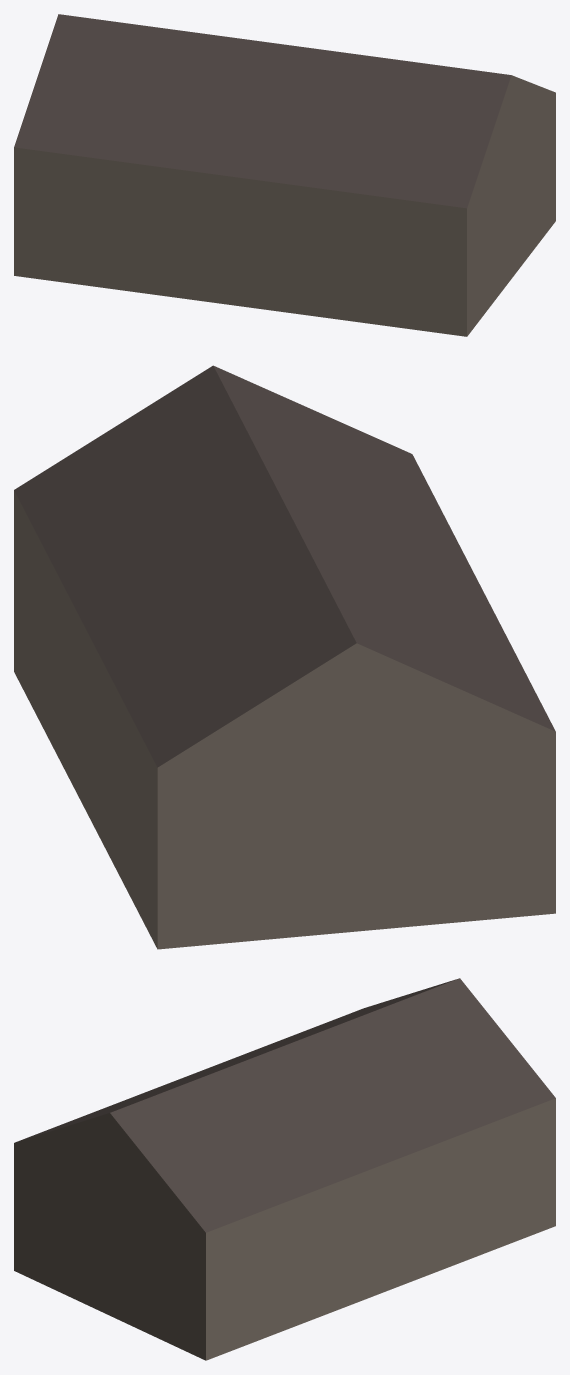
3 renders of one model, top to bottom at view 1: azimuth 30°, elevation 25°; view 2: azimuth 150°, elevation 25°; view 3: azimuth 270°, elevation 25°, orthographic. The views are drawn at different scales.
Parts seen in each view (by area): view 1: HP-w859457310; view 2: HP-w859457310; view 3: HP-w859457310.
Part boxes in pixels (x1,y1,x2,y2): HP-w859457310: (14,14,555,336); HP-w859457310: (14,365,555,949); HP-w859457310: (14,978,555,1360).
Bounding box in the file's own units: 22.6 × 9.52 × 23.04.
